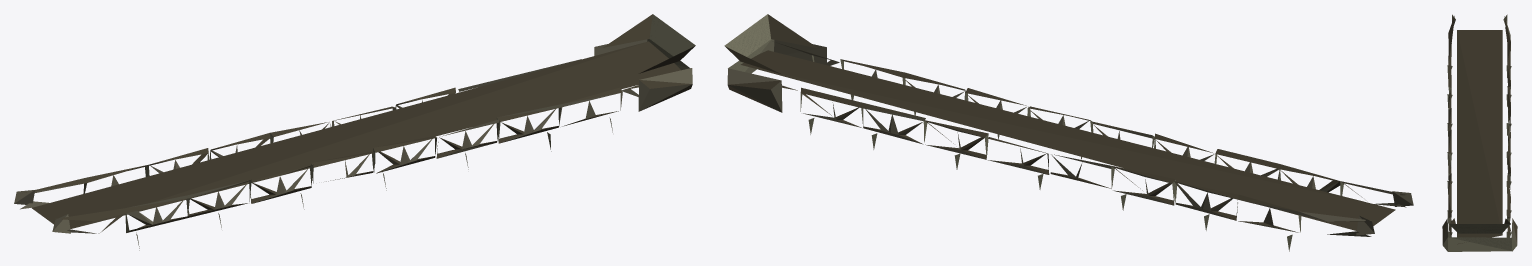
Rendered from conveyor.far-facades-v2.lod2.glb.
3 renders of one model, left to right at view 1: azimuth 30°, elevation 25°; view 2: azimuth 150°, elevation 25°; view 3: azimuth 270°, elevation 25°, orthographic. The views are drawn at different scales.
Visible parts, largest first — view 1: conveyor; view 2: conveyor; view 3: conveyor.
Part boxes in pixels (box(x1,y1,x2,y2)): conveyor: box(14, 14, 695, 250); conveyor: box(724, 14, 1413, 251); conveyor: box(1442, 14, 1517, 251).
Bounding box in the file's own units: 41.89 × 4.38 × 5.89.
